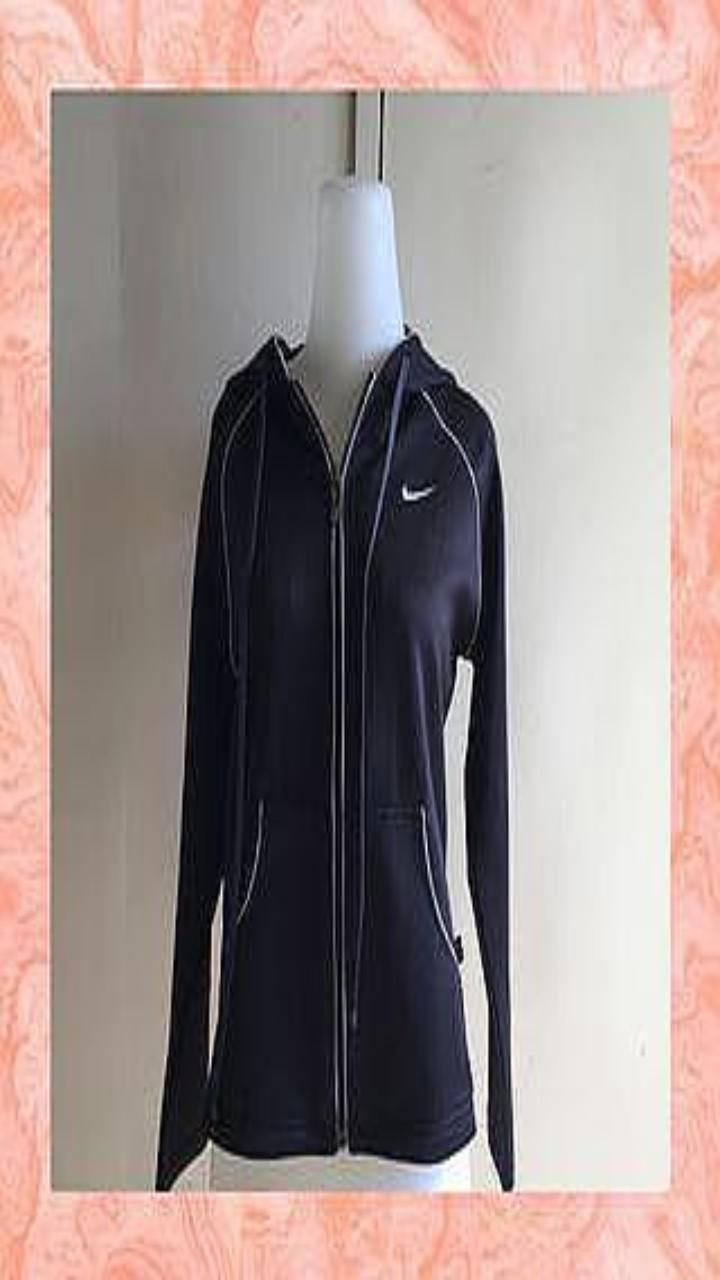Sports_Jacket: (155, 325, 513, 1189)
